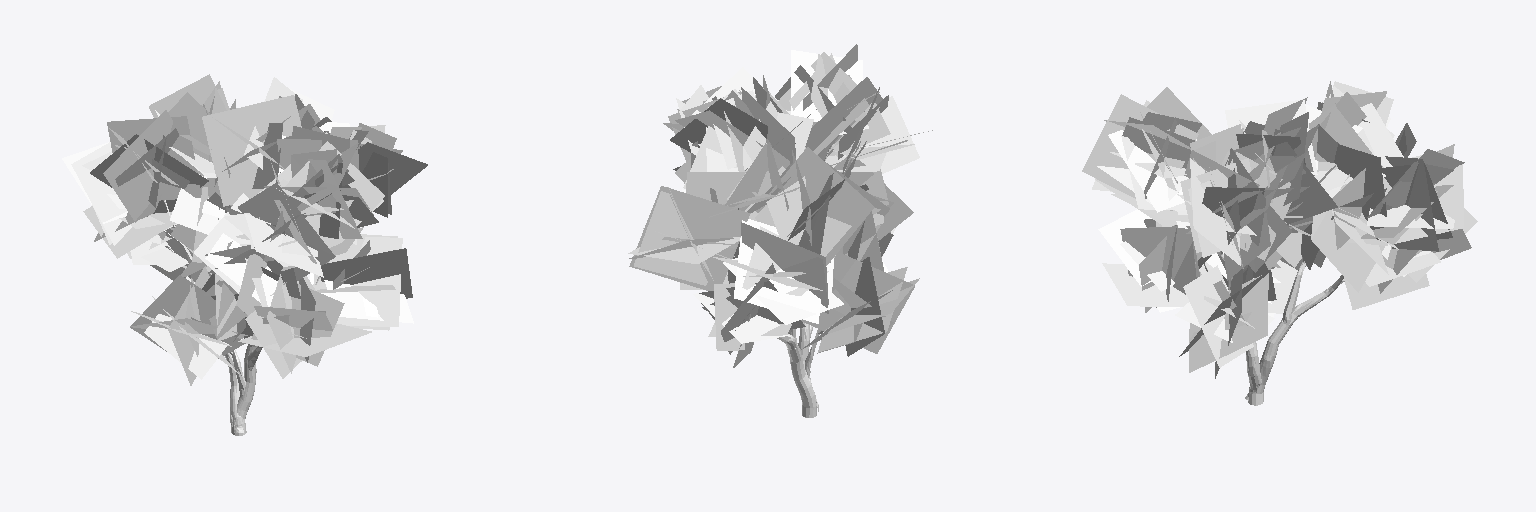
Rendered from Alder_Buckthorn_Model_0.obj.
3 renders of one model, left to right at view 1: azimuth 30°, elevation 25°; view 2: azimuth 150°, elevation 25°; view 3: azimuth 270°, elevation 25°, orthographic.
Parts seen in each view (by area): view 1: Foliage__leafcard, Bark; view 2: Foliage__leafcard, Bark; view 3: Foliage__leafcard, Bark.
Part boxes in pixels (x1,y1,x2,y2): Foliage__leafcard: (62, 74, 427, 385); Bark: (147, 200, 329, 435); Foliage__leafcard: (628, 44, 932, 367); Bark: (727, 146, 830, 417); Foliage__leafcard: (1082, 81, 1477, 378); Bark: (1166, 165, 1344, 405).
Size of the model in its own units: 8.47 by 10 by 11.19.